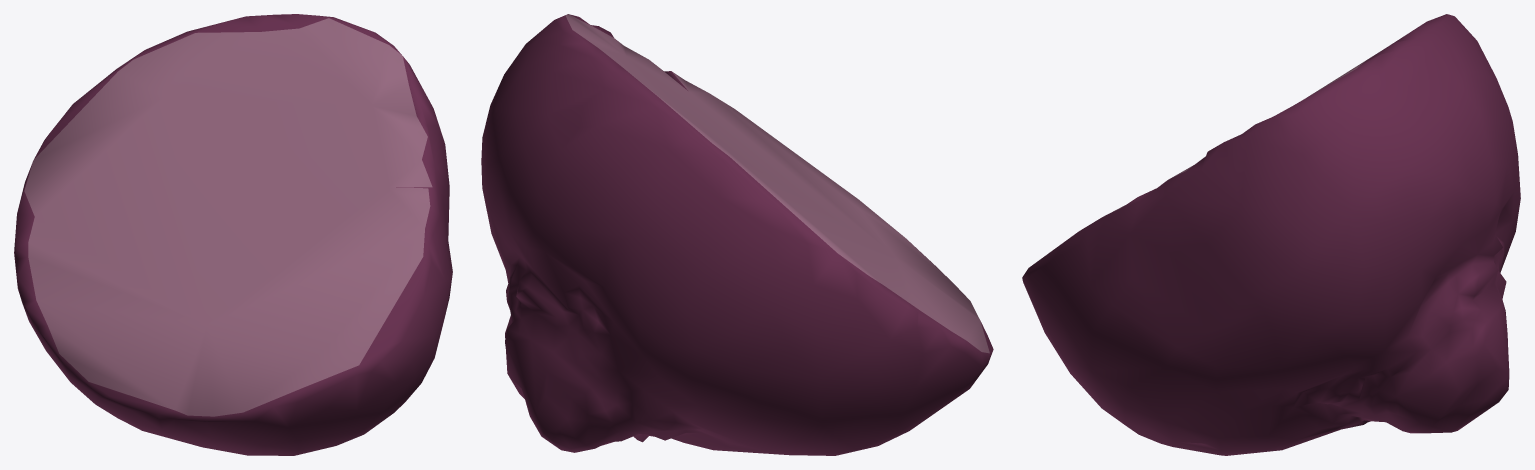
Rendered from beterraba.fbx.
3 views of the same model, side by side, from view 1: azimuth 30°, elevation 25°; view 2: azimuth 150°, elevation 25°; view 3: azimuth 270°, elevation 25° (orthographic). The views are drawn at different scales.
Parts seen in each view (by area): view 1: 22_beetroot1; view 2: 22_beetroot1; view 3: 22_beetroot1.
Boxes of the visible parts, left/top/right/bottom form: 22_beetroot1: left=14, top=14, right=452, bottom=455; 22_beetroot1: left=481, top=14, right=993, bottom=455; 22_beetroot1: left=1022, top=14, right=1520, bottom=455.
Bounding box in the file's own units: 99.97 × 85.9 × 90.54.
